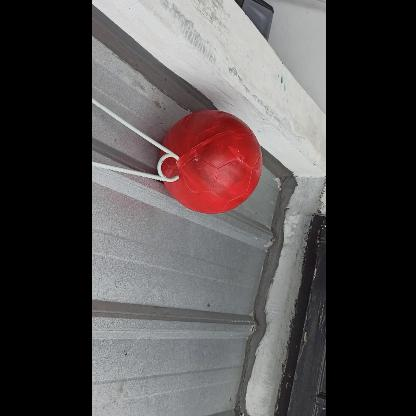red_ball: (156, 110, 262, 214)
